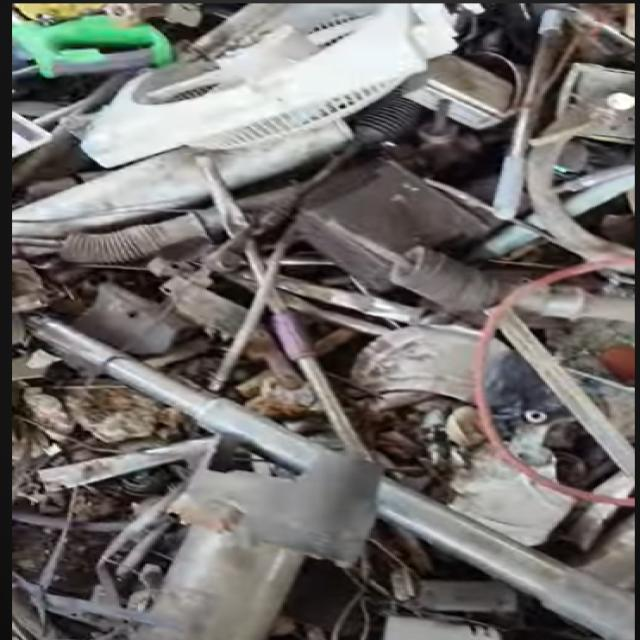Shock-Absorbers: (347, 88, 421, 152)
